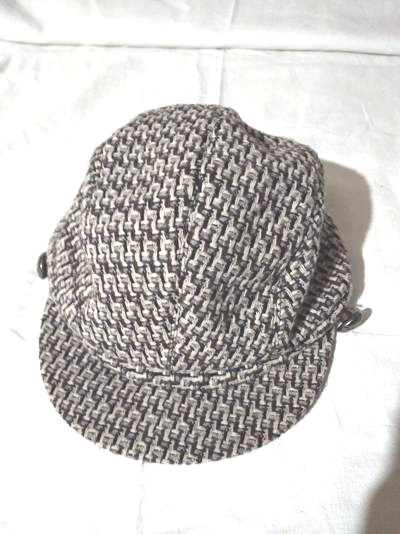Hat: (15, 103, 382, 463)
